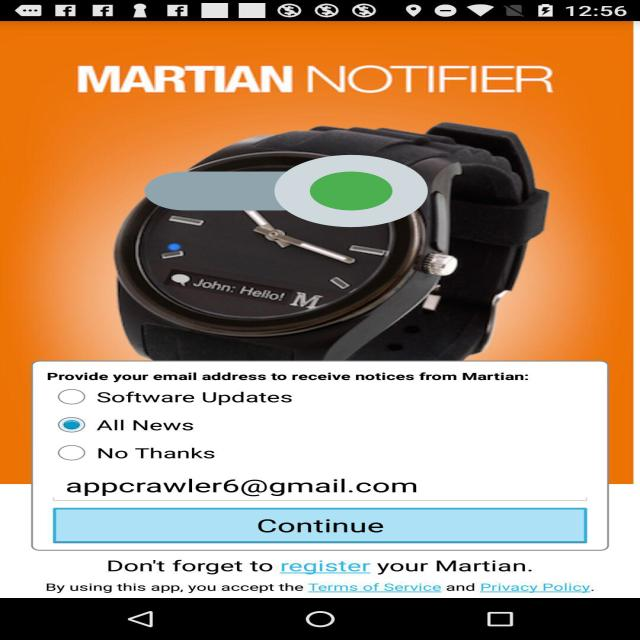social proof: (144, 124, 428, 258)
